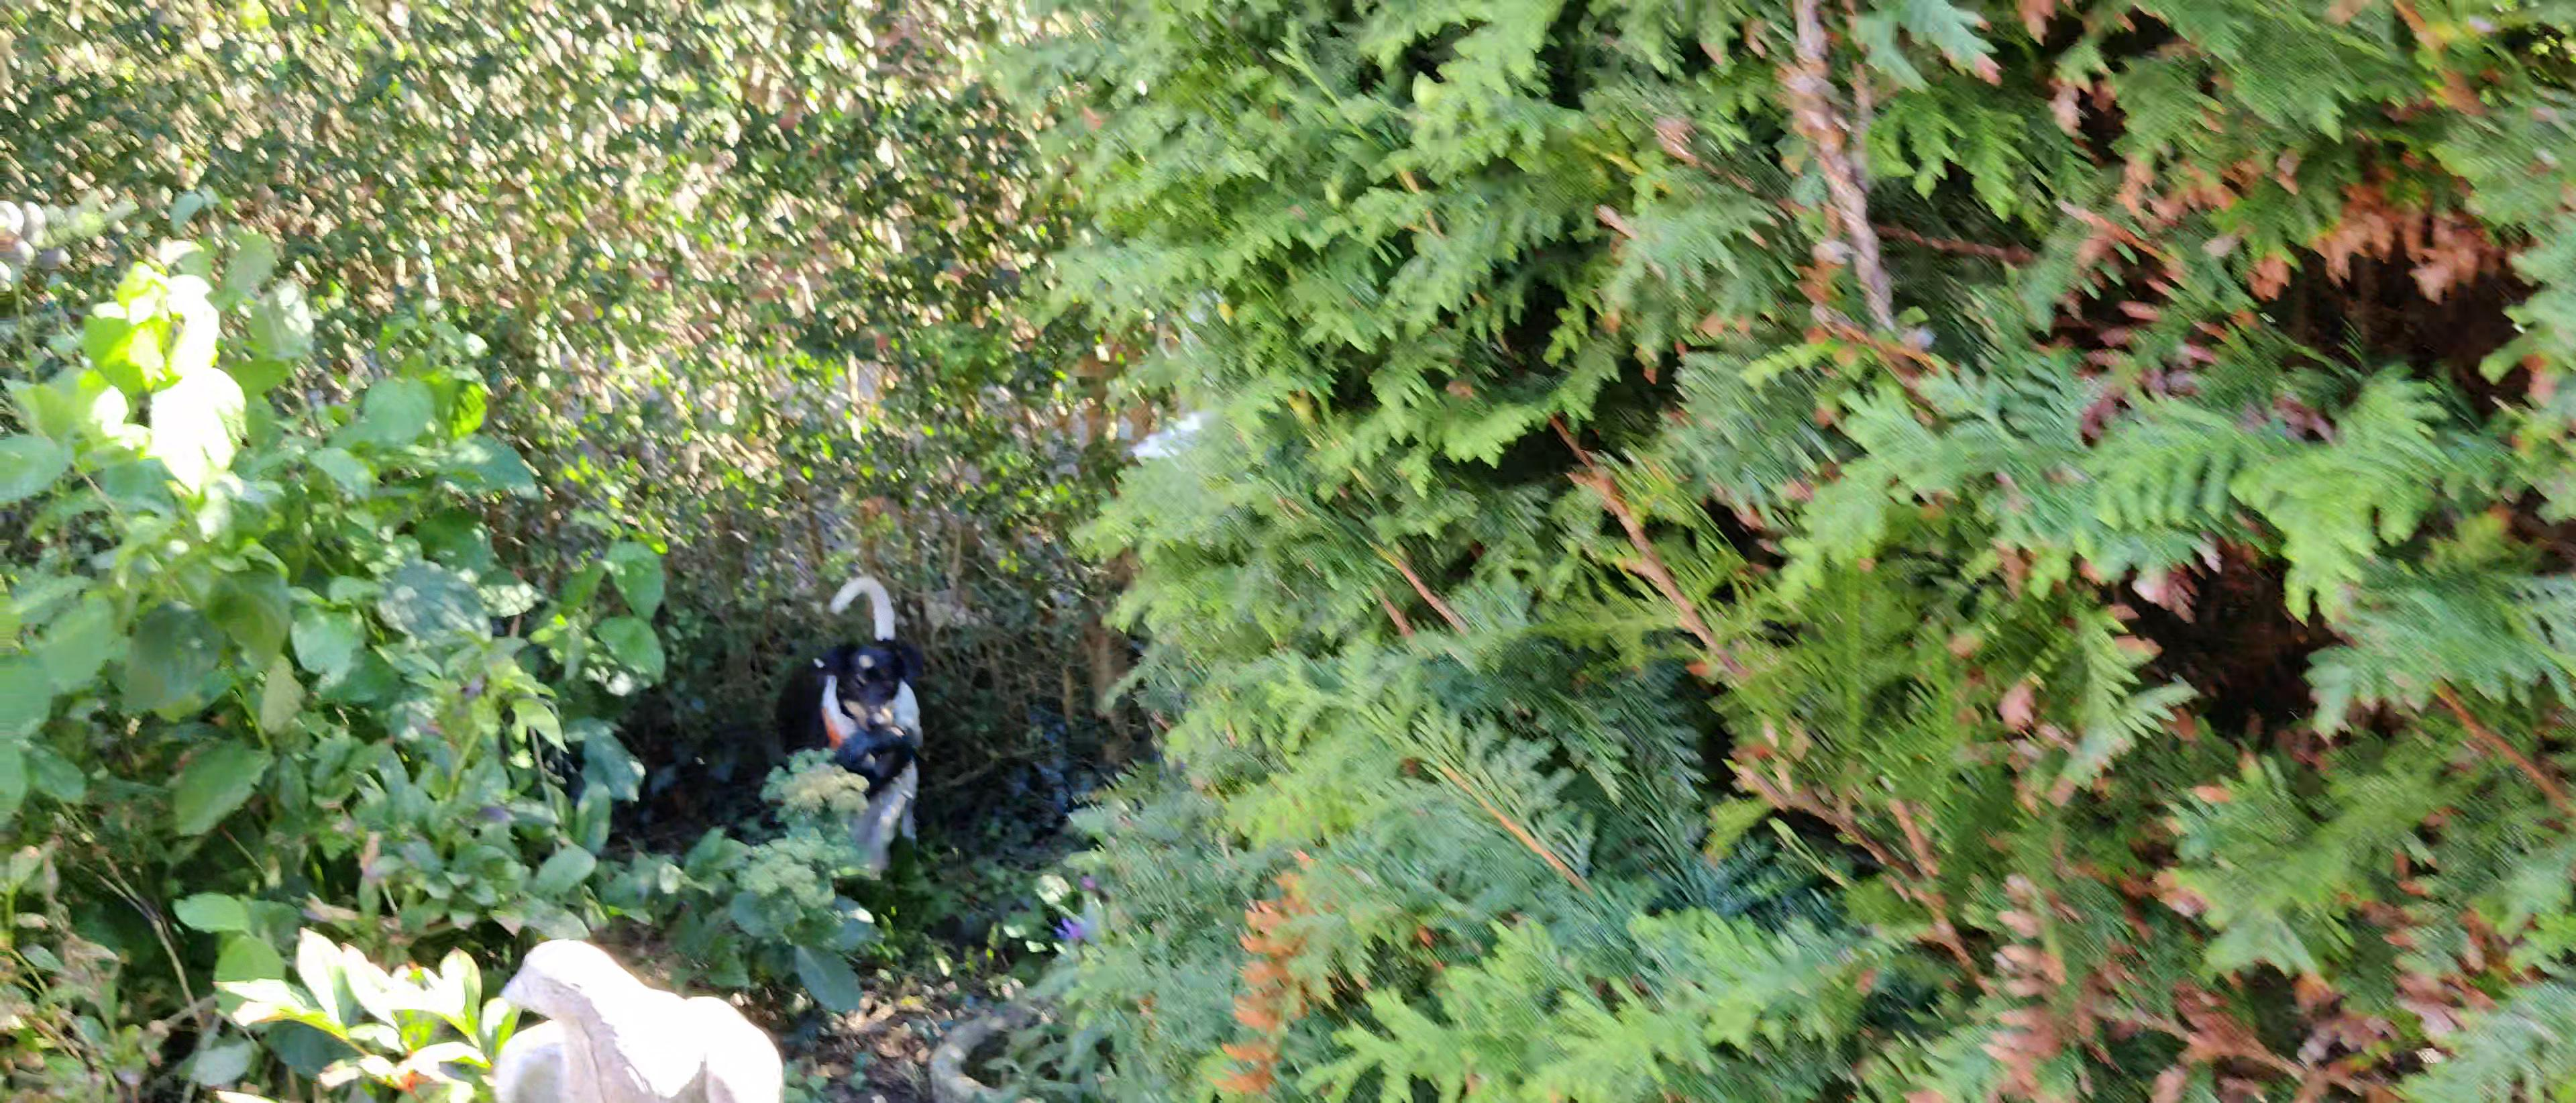Dog: (754, 567, 925, 894)
